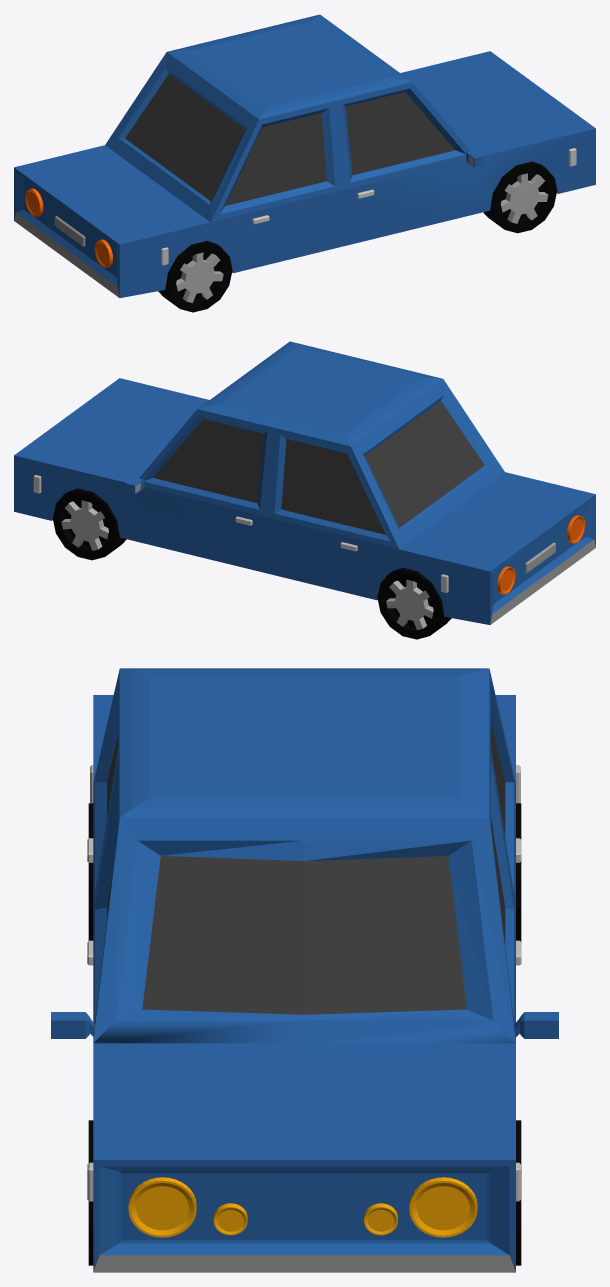
The model's file is car1anim.glb.
3 renders of one model, top to bottom at view 1: azimuth 30°, elevation 25°; view 2: azimuth 150°, elevation 25°; view 3: azimuth 270°, elevation 25°, orthographic. The views are drawn at different scales.
Visible parts, largest first — view 1: car1base, cw4, cw1; view 2: car1base, cw2, cw3; view 3: car1base.
Part boxes in pixels (x1,y1,x2,y2): car1base: [14, 14, 595, 297]; cw4: [158, 241, 232, 312]; cw1: [483, 161, 556, 233]; car1base: [14, 341, 595, 624]; cw2: [52, 488, 126, 560]; cw3: [377, 568, 451, 639]; car1base: [51, 668, 558, 1272].
Bounding box in the file's own units: 6.44 × 2.22 × 2.97.
1 material, 1 textured.
